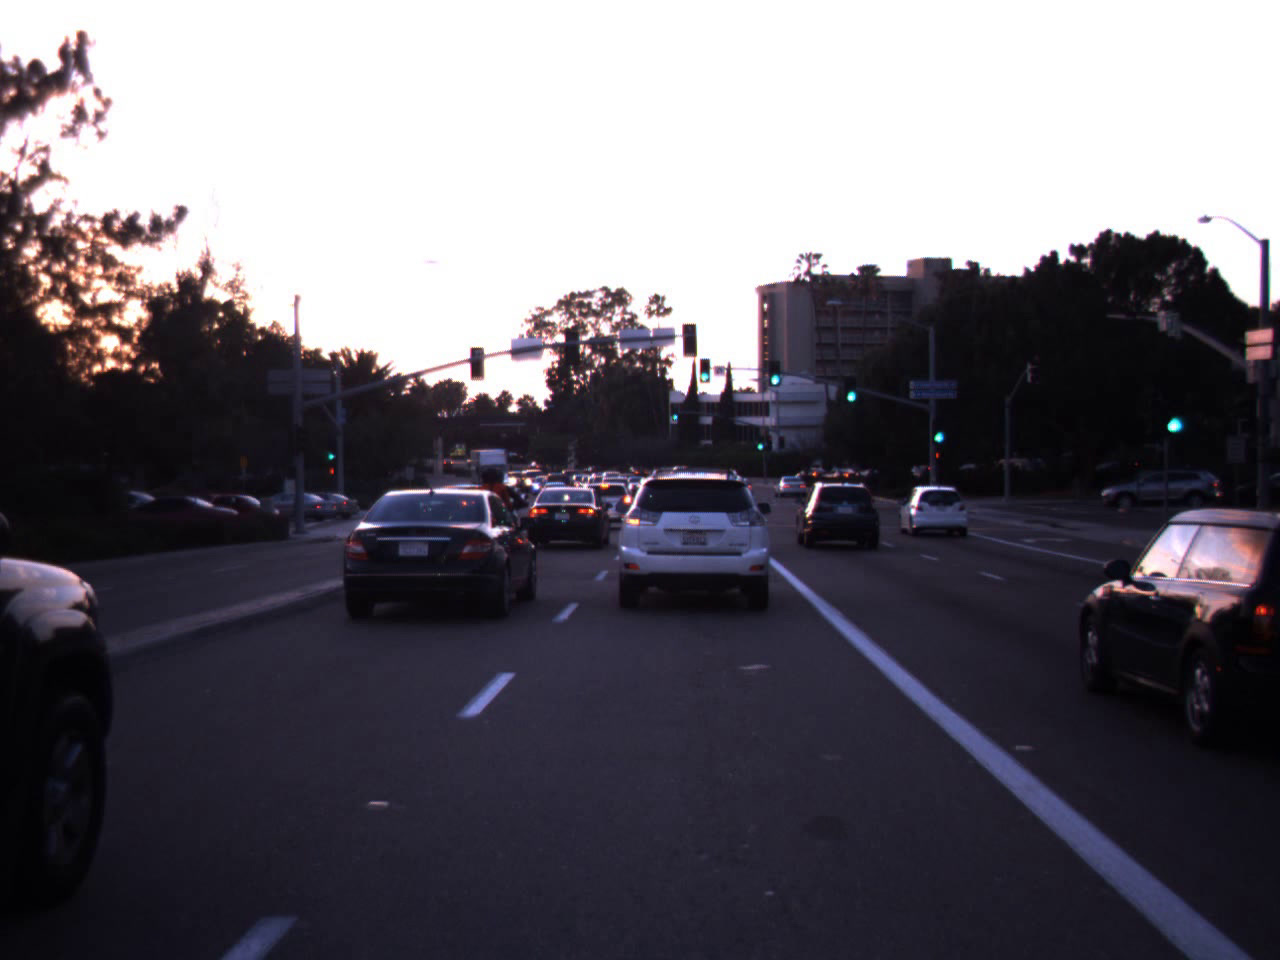go: (1156, 377, 1192, 437), (763, 343, 787, 388), (841, 360, 862, 405), (932, 406, 947, 446), (696, 353, 714, 383), (754, 431, 766, 451), (325, 441, 337, 461)
